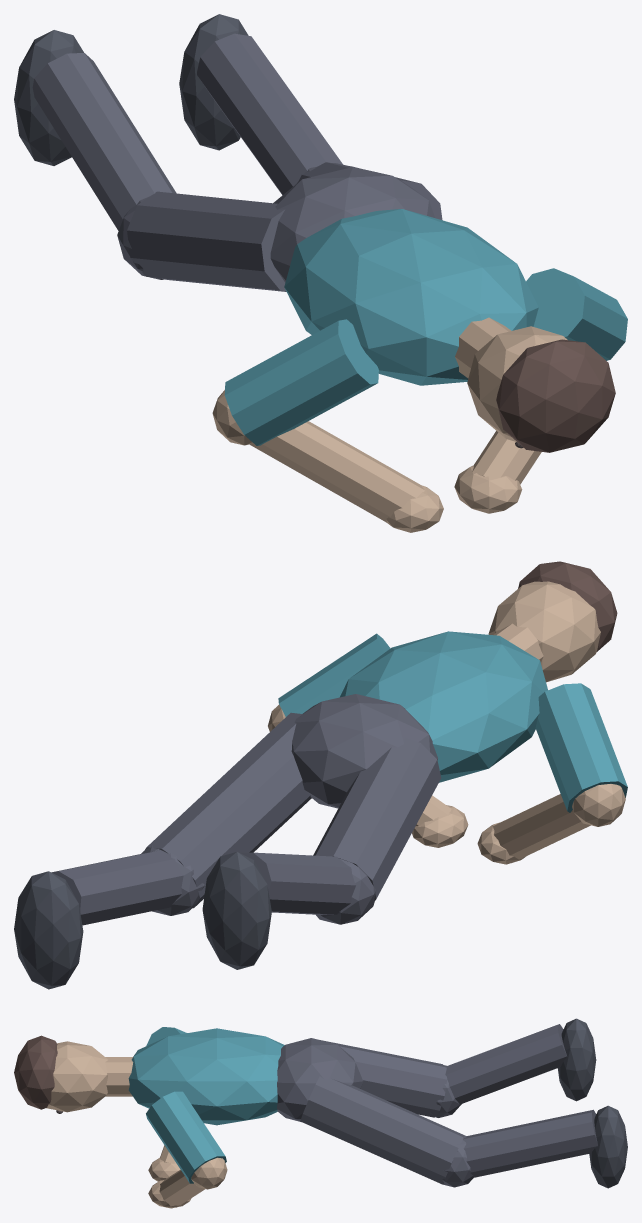
The picture shows the model from 3 angles, top to bottom: view 1: azimuth 30°, elevation 25°; view 2: azimuth 150°, elevation 25°; view 3: azimuth 270°, elevation 25°; orthographic projection. The views are drawn at different scales.
Parts seen in each view (by area): view 1: world; view 2: world; view 3: world.
Boxes of the visible parts, box(x1,y1,x2,y2) form: world: box(14, 14, 627, 532); world: box(14, 561, 627, 989); world: box(14, 1018, 627, 1208).
Bounding box in the file's own units: 0.93 × 0.57 × 2.01.
